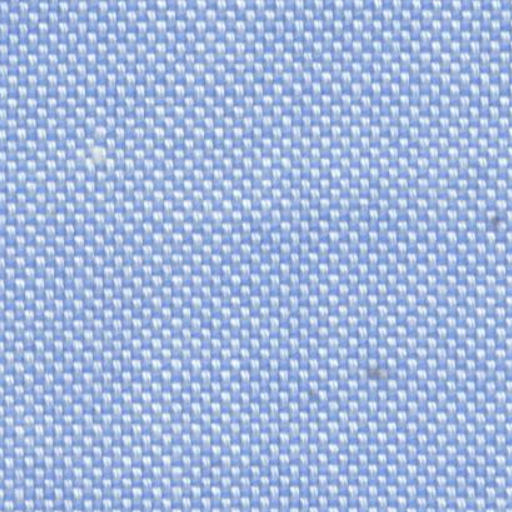WuZi: (348, 355, 400, 394), (472, 198, 504, 238)
